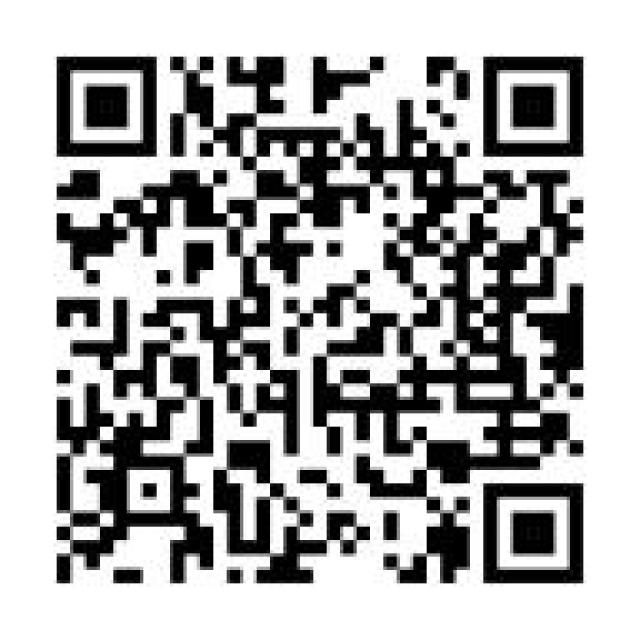QR_CODE: (41, 44, 596, 598)
